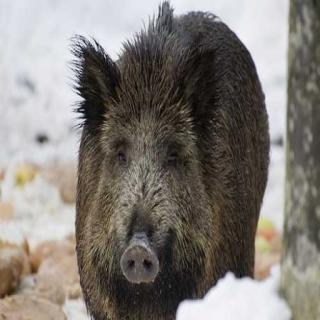Pig: (53, 0, 302, 320)
